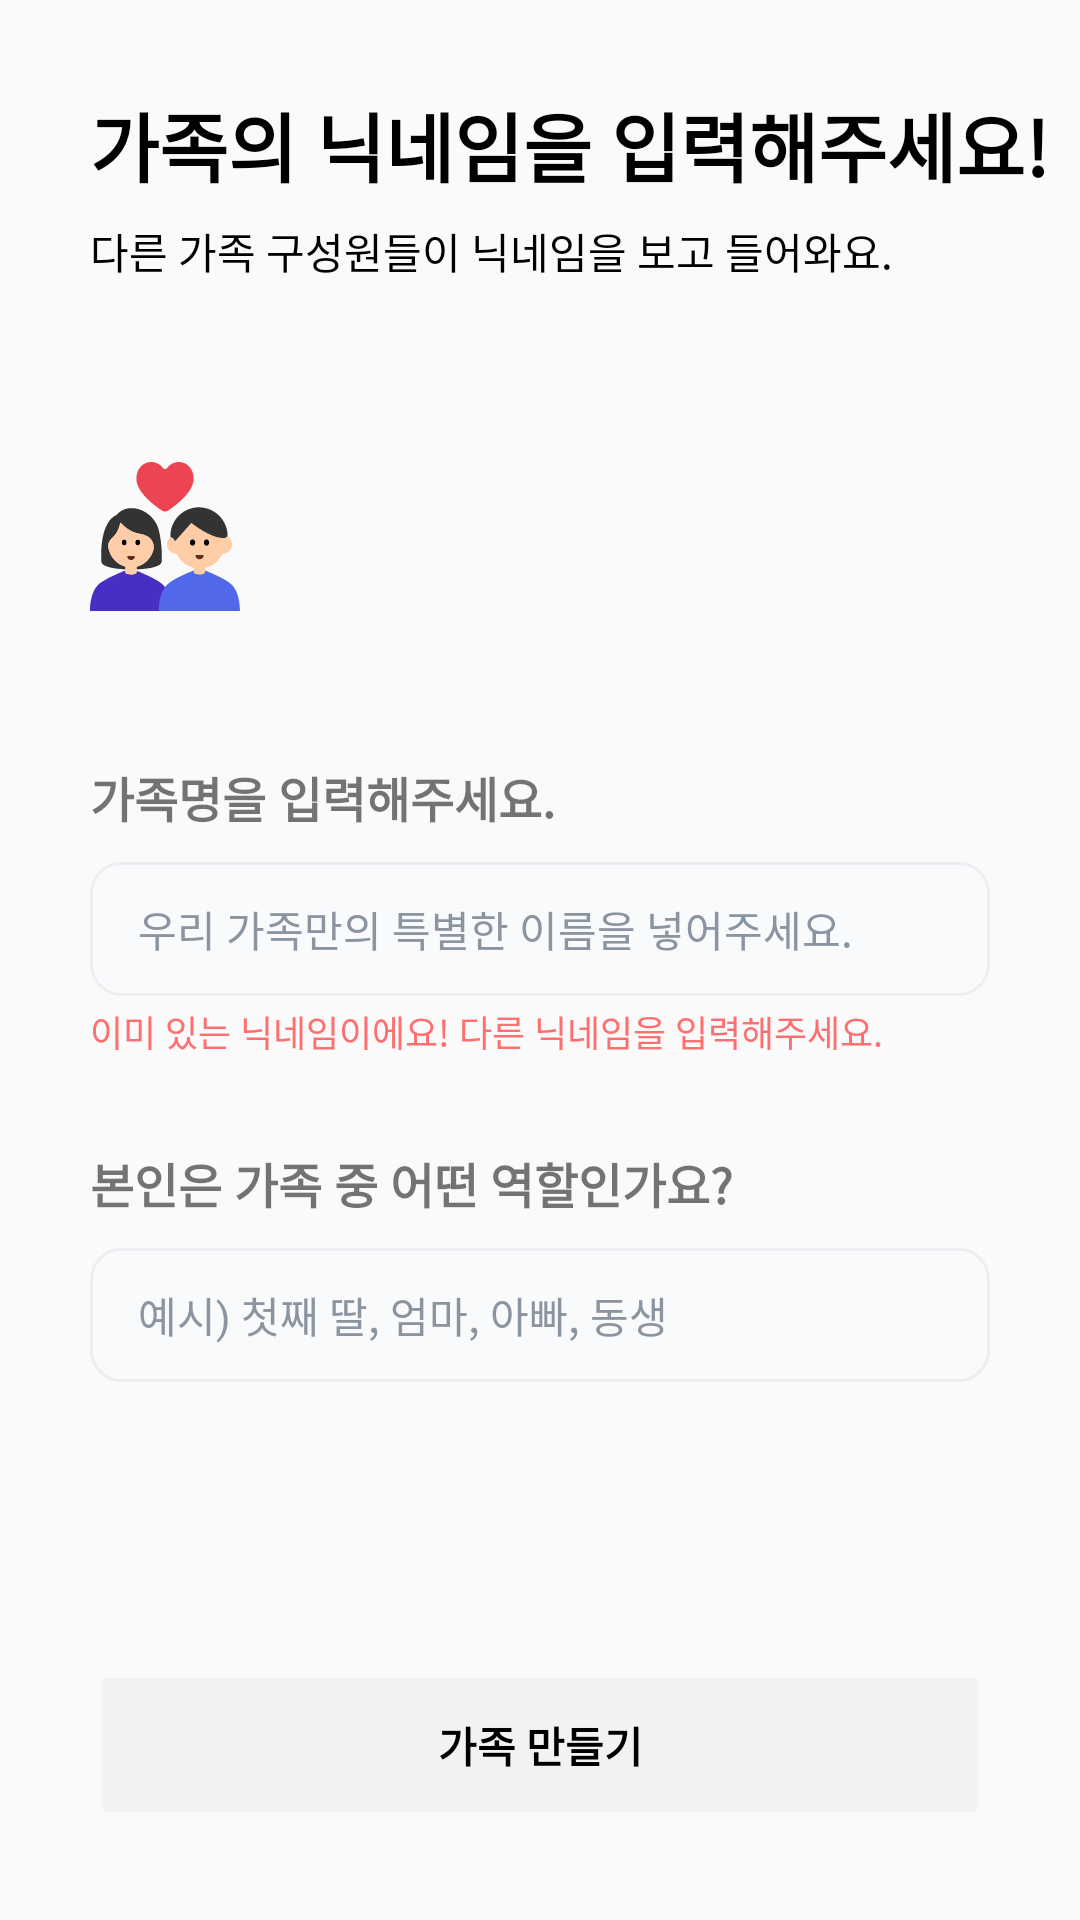

Where icons sit on this 1080w x 1920h app screen, as (x1=x1, y1=y1, x2=x2, y2=y2):
family: (x1=90, y1=462, x2=240, y2=611)
